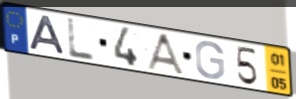4: (113, 25, 141, 68)
5: (234, 44, 259, 86)
A: (144, 32, 187, 77), (28, 14, 68, 57)
G: (194, 39, 227, 81)
L: (66, 17, 98, 63)
